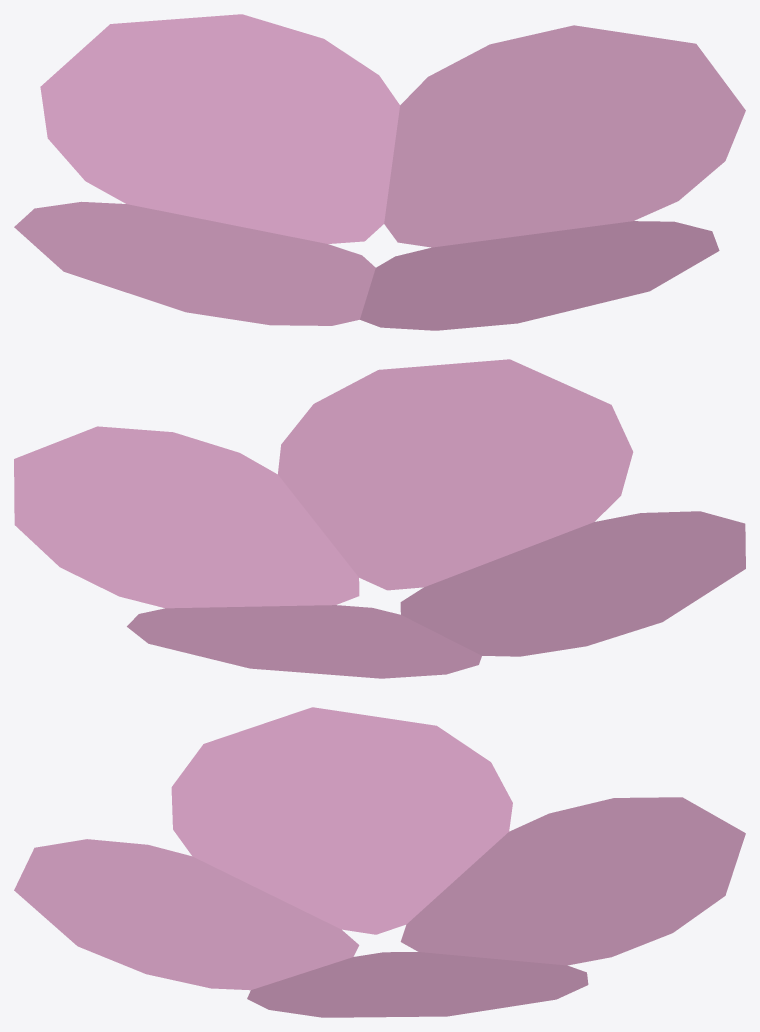
File: small_flower_petals.fbx
3 renders of one model, top to bottom at view 1: azimuth 30°, elevation 25°; view 2: azimuth 150°, elevation 25°; view 3: azimuth 270°, elevation 25°, orthographic. The views are drawn at different scales.
Visible parts, largest first — view 1: petal4, petal1, petal3, petal2; view 2: petal2, petal1, petal3, petal4; view 3: petal3, petal4, petal2, petal1.
Part boxes in pixels (x1,y1,x2,y2): petal4: [40, 14, 399, 243]; petal1: [384, 25, 745, 247]; petal3: [14, 201, 375, 325]; petal2: [360, 221, 719, 330]; petal2: [278, 359, 633, 590]; petal1: [14, 426, 359, 608]; petal3: [400, 511, 745, 656]; petal4: [127, 605, 481, 678]; petal3: [171, 707, 512, 934]; petal4: [400, 797, 745, 965]; petal2: [14, 839, 359, 990]; petal1: [247, 952, 588, 1017].
Bounding box in the file's own units: 351 × 43.24 × 351.
